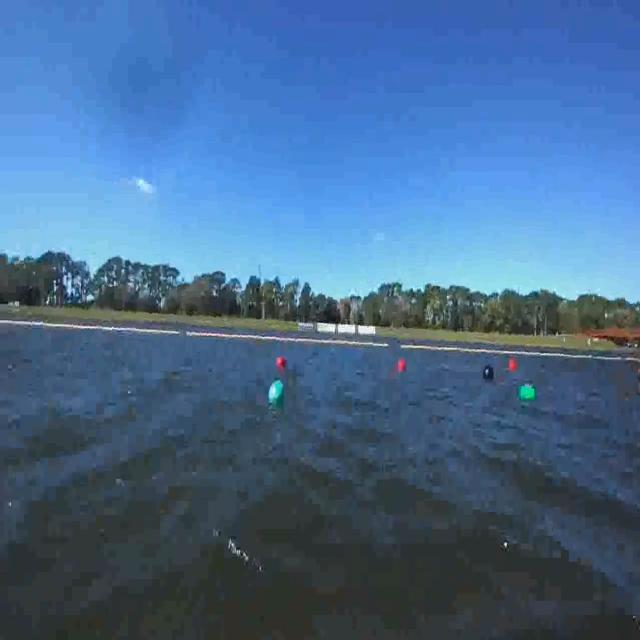black-buoy: (484, 362, 496, 380)
green-buoy: (272, 378, 285, 403), (519, 386, 537, 402)
red-buoy: (397, 358, 406, 373), (510, 358, 519, 372), (278, 358, 286, 368)
